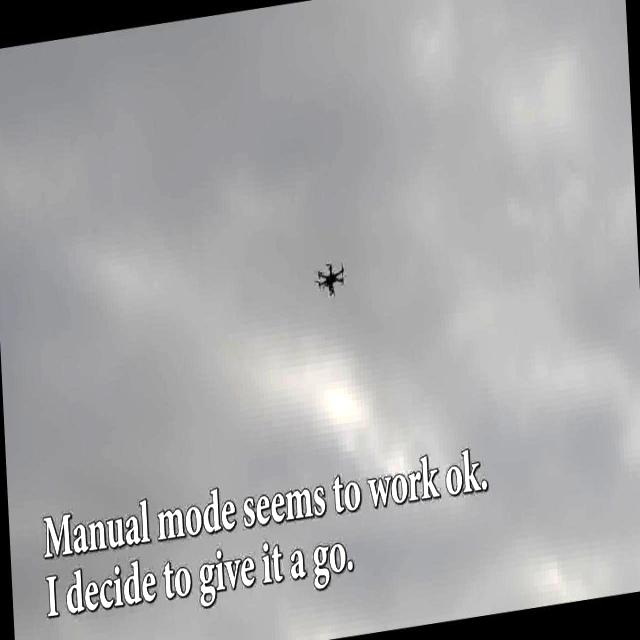drone: (315, 254, 347, 301)
